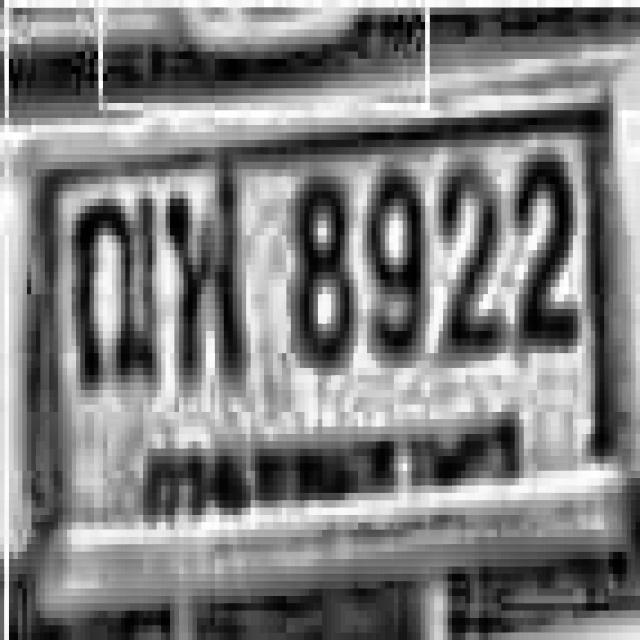license-plate: (11, 68, 617, 620)
